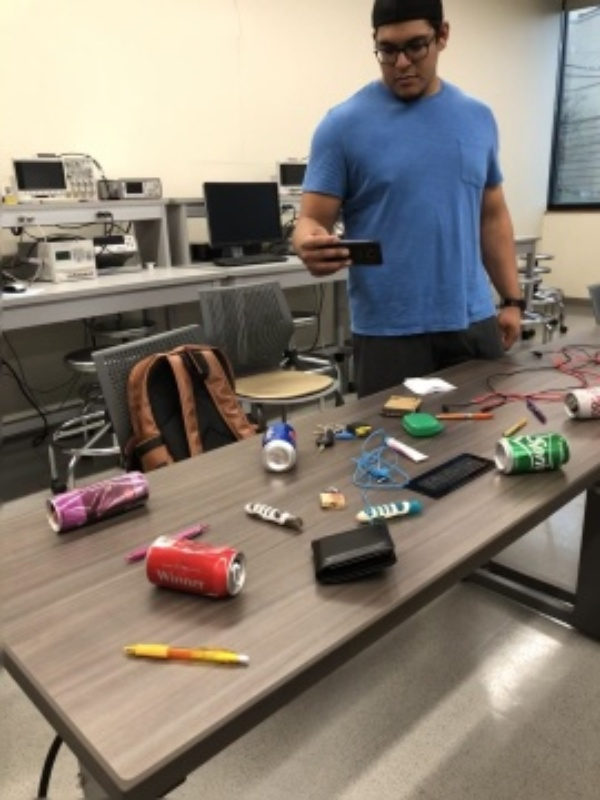can: (41, 467, 152, 538), (144, 533, 250, 604), (490, 433, 576, 480), (257, 419, 303, 476), (560, 382, 600, 425)
